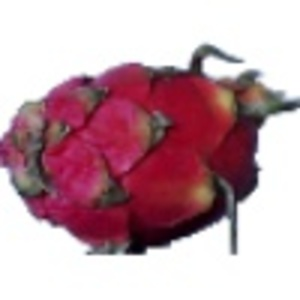pitaia: (1, 41, 300, 256)
